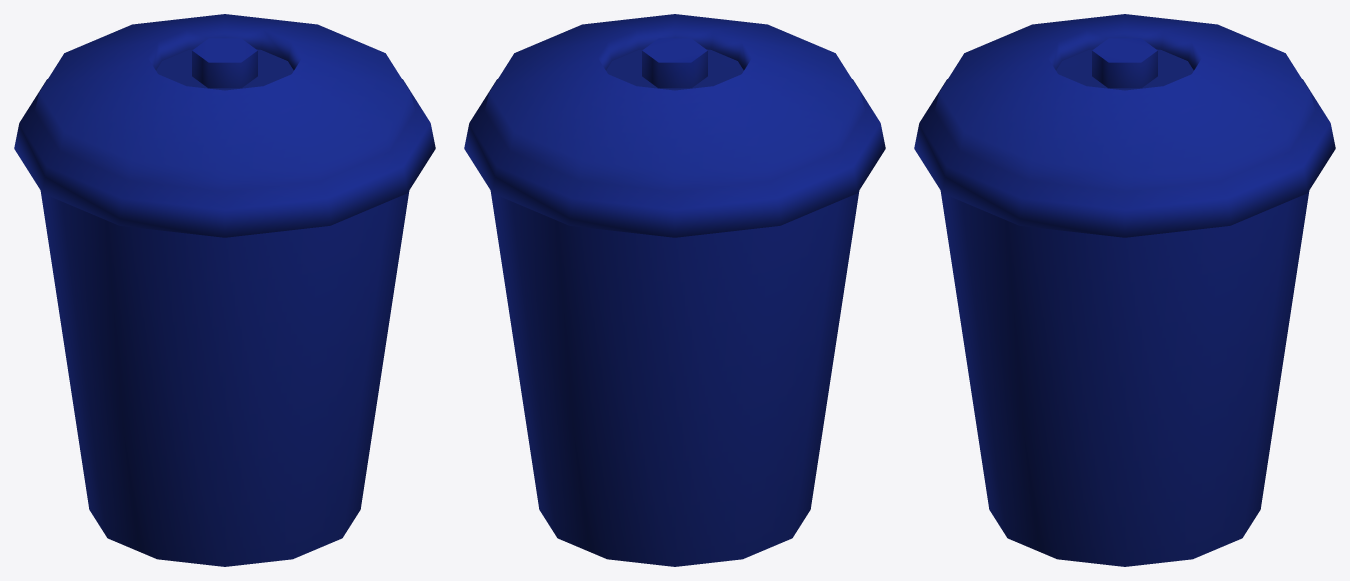
The model's file is TrashCan_SM.fbx.
3 views of the same model, side by side, from view 1: azimuth 30°, elevation 25°; view 2: azimuth 150°, elevation 25°; view 3: azimuth 270°, elevation 25° (orthographic).
Visible parts, largest first — view 1: TrashCan_SM; view 2: TrashCan_SM; view 3: TrashCan_SM.
Boxes of the visible parts, x1,y1,x2,y2 form: TrashCan_SM: (14, 14, 435, 566); TrashCan_SM: (464, 14, 885, 566); TrashCan_SM: (914, 14, 1335, 566).
Bounding box in the file's own units: 69.66 × 83.69 × 69.66.
